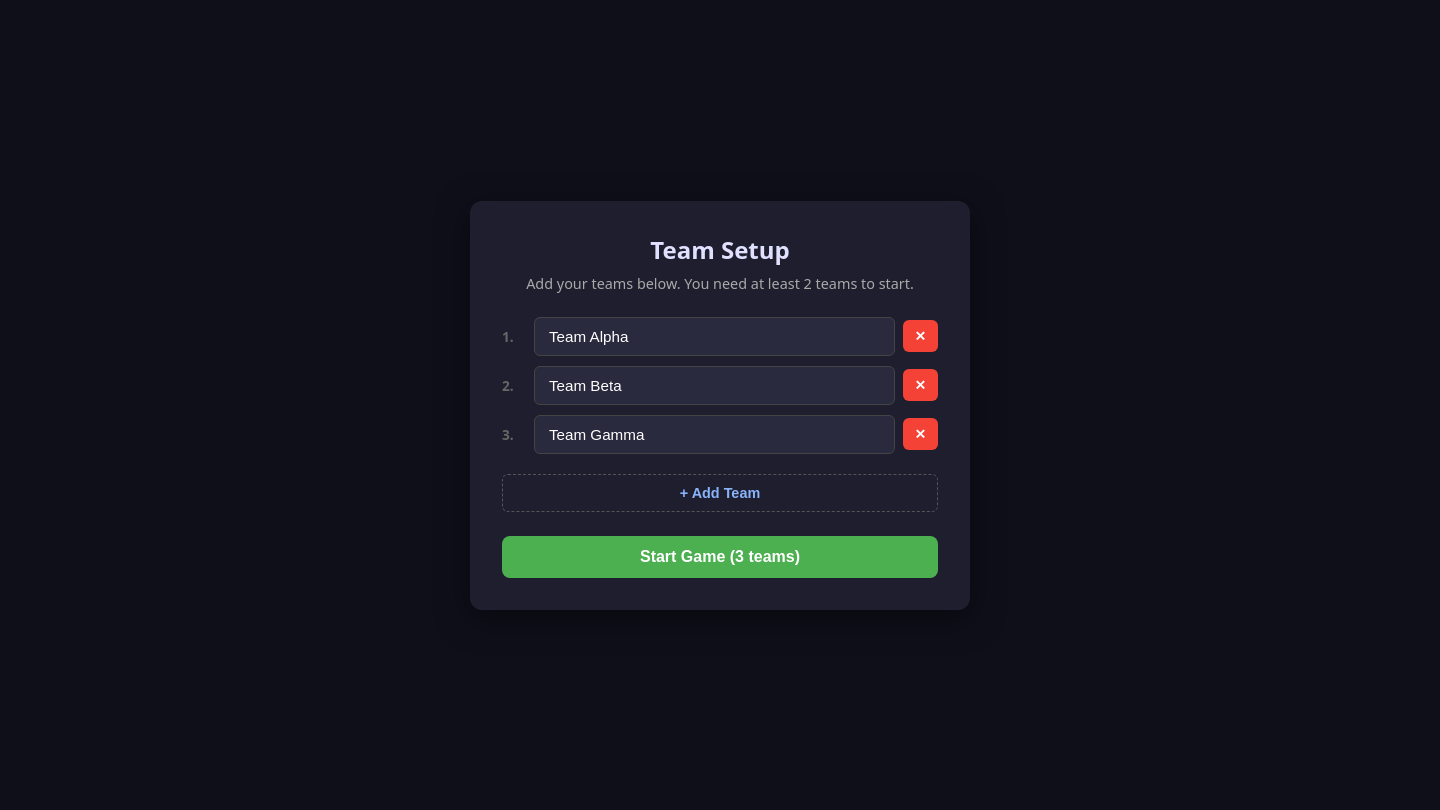
Test: App › starts the game after team setup
The width and height of the screenshot is (1440, 810).
Note: Click start with default team names
Click the button with test id "start-game-button": point(720, 556) [502,536,938,578]
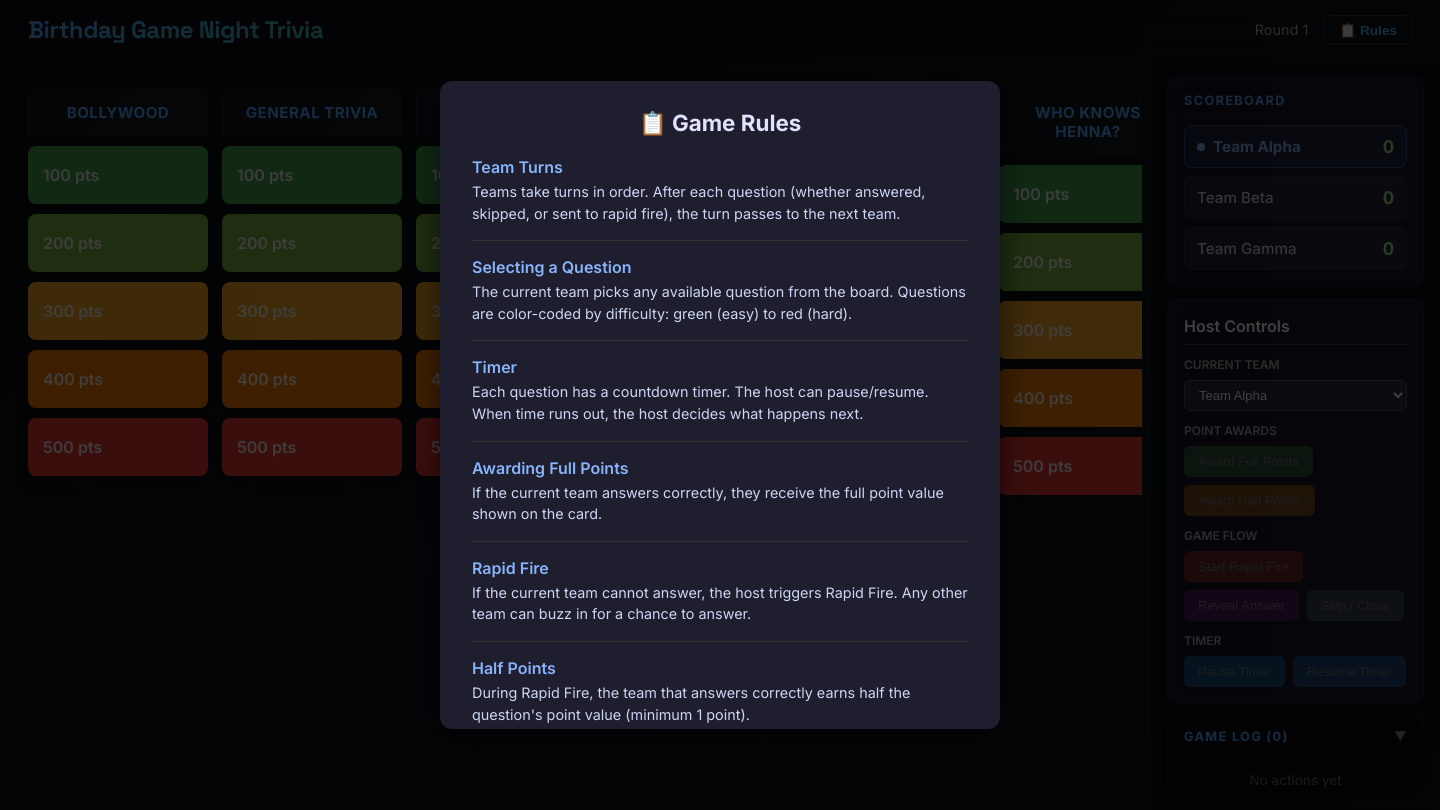
expect the heading "Birthday Game Night Trivia" is shown: met, box [28,14,323,45]
expect the element with test id "game-board" is shown: met, box [28,88,1150,495]
expect the element "Scoreboard" is shown: met, box [1167,76,1424,287]
